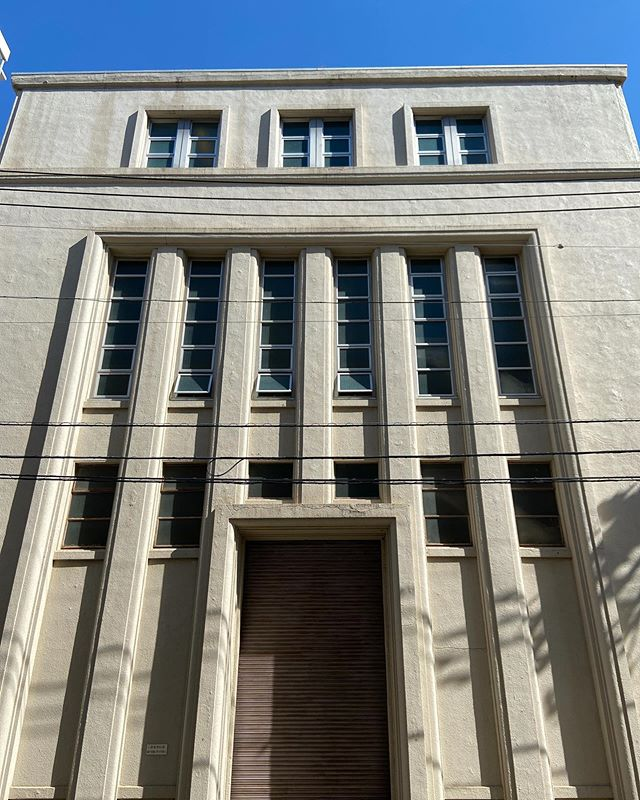building: (1, 72, 640, 800)
